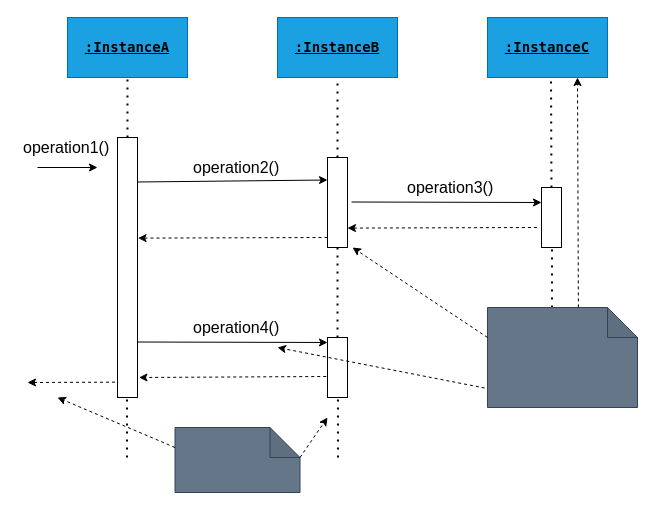
The diagram is 655 pixels wide and 510 high, and some of its shapes have lost their labels. Here are the shapes that lost their labels. From the top down, the box of each, then its label:
(486, 306, 638, 408): 程式中被建立的物件執行規格長條格 訊息呼叫(操作)
(174, 426, 300, 492): 回覆訊息 物件生命線
